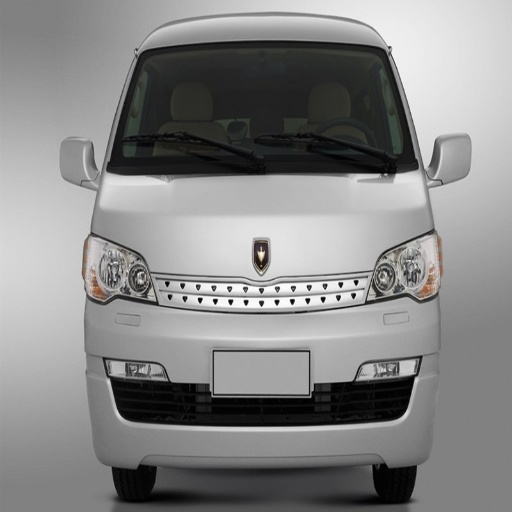front_bumper: (86, 271, 437, 463)
front_right_light: (83, 234, 153, 302)
hood: (95, 172, 431, 274)
left_mirror: (427, 134, 472, 183)
right_mirror: (60, 138, 97, 189)
